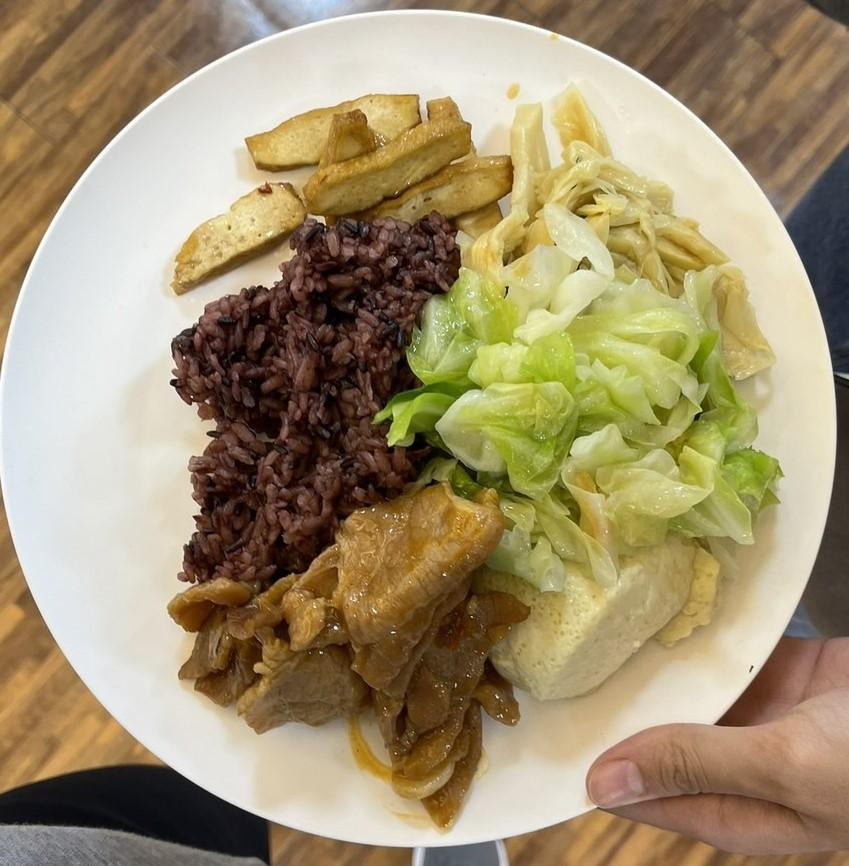big fried chicken leg: (0, 10, 849, 848)
braised fish: (169, 206, 460, 578)
braised fish fillet: (406, 266, 782, 580), (165, 82, 512, 295), (504, 90, 776, 359), (485, 530, 722, 696)
braised pork: (173, 482, 512, 835)
